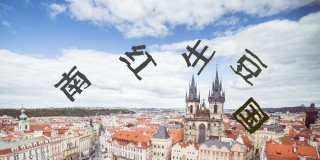南: (54, 65, 94, 103)
国: (231, 96, 269, 134)
生: (182, 40, 215, 75)
红: (120, 43, 156, 79)
豆: (231, 48, 268, 86)
